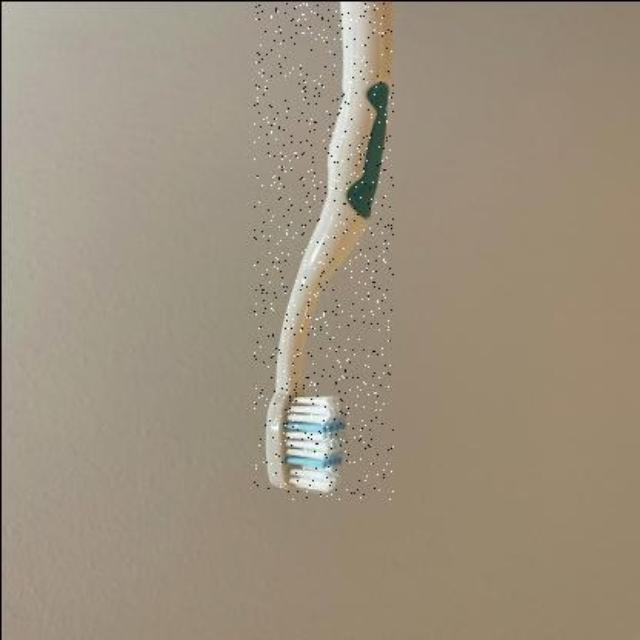toothbrush: (252, 0, 392, 498)
